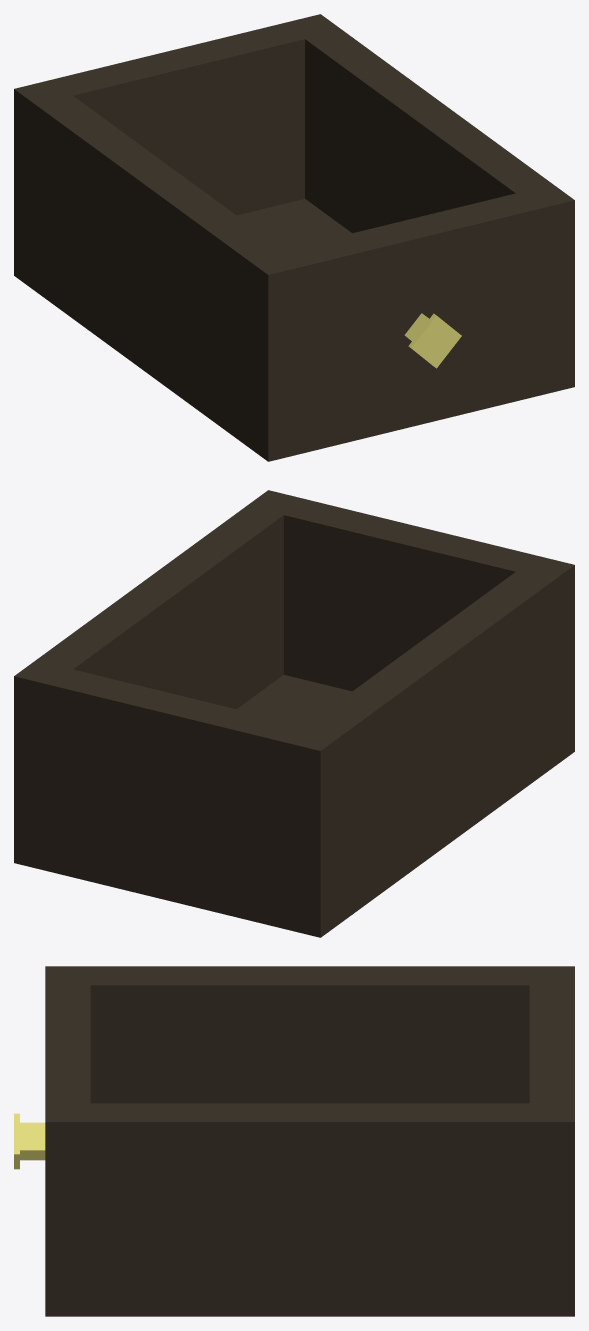
File: Itr_Bed_Bunk2_Drawer1_01.FBX
3 renders of one model, top to bottom at view 1: azimuth 30°, elevation 25°; view 2: azimuth 150°, elevation 25°; view 3: azimuth 270°, elevation 25°, orthographic. The views are drawn at different scales.
Parts seen in each view (by area): view 1: Itr_Bed_Bunk2_Drawer1_01; view 2: Itr_Bed_Bunk2_Drawer1_01; view 3: Itr_Bed_Bunk2_Drawer1_01.
Boxes of the visible parts, left/top/right/bottom form: Itr_Bed_Bunk2_Drawer1_01: left=14, top=14, right=574, bottom=461; Itr_Bed_Bunk2_Drawer1_01: left=14, top=490, right=574, bottom=937; Itr_Bed_Bunk2_Drawer1_01: left=14, top=966, right=574, bottom=1316.
Bounding box in the file's own units: 27.33 × 15.91 × 41.58.
